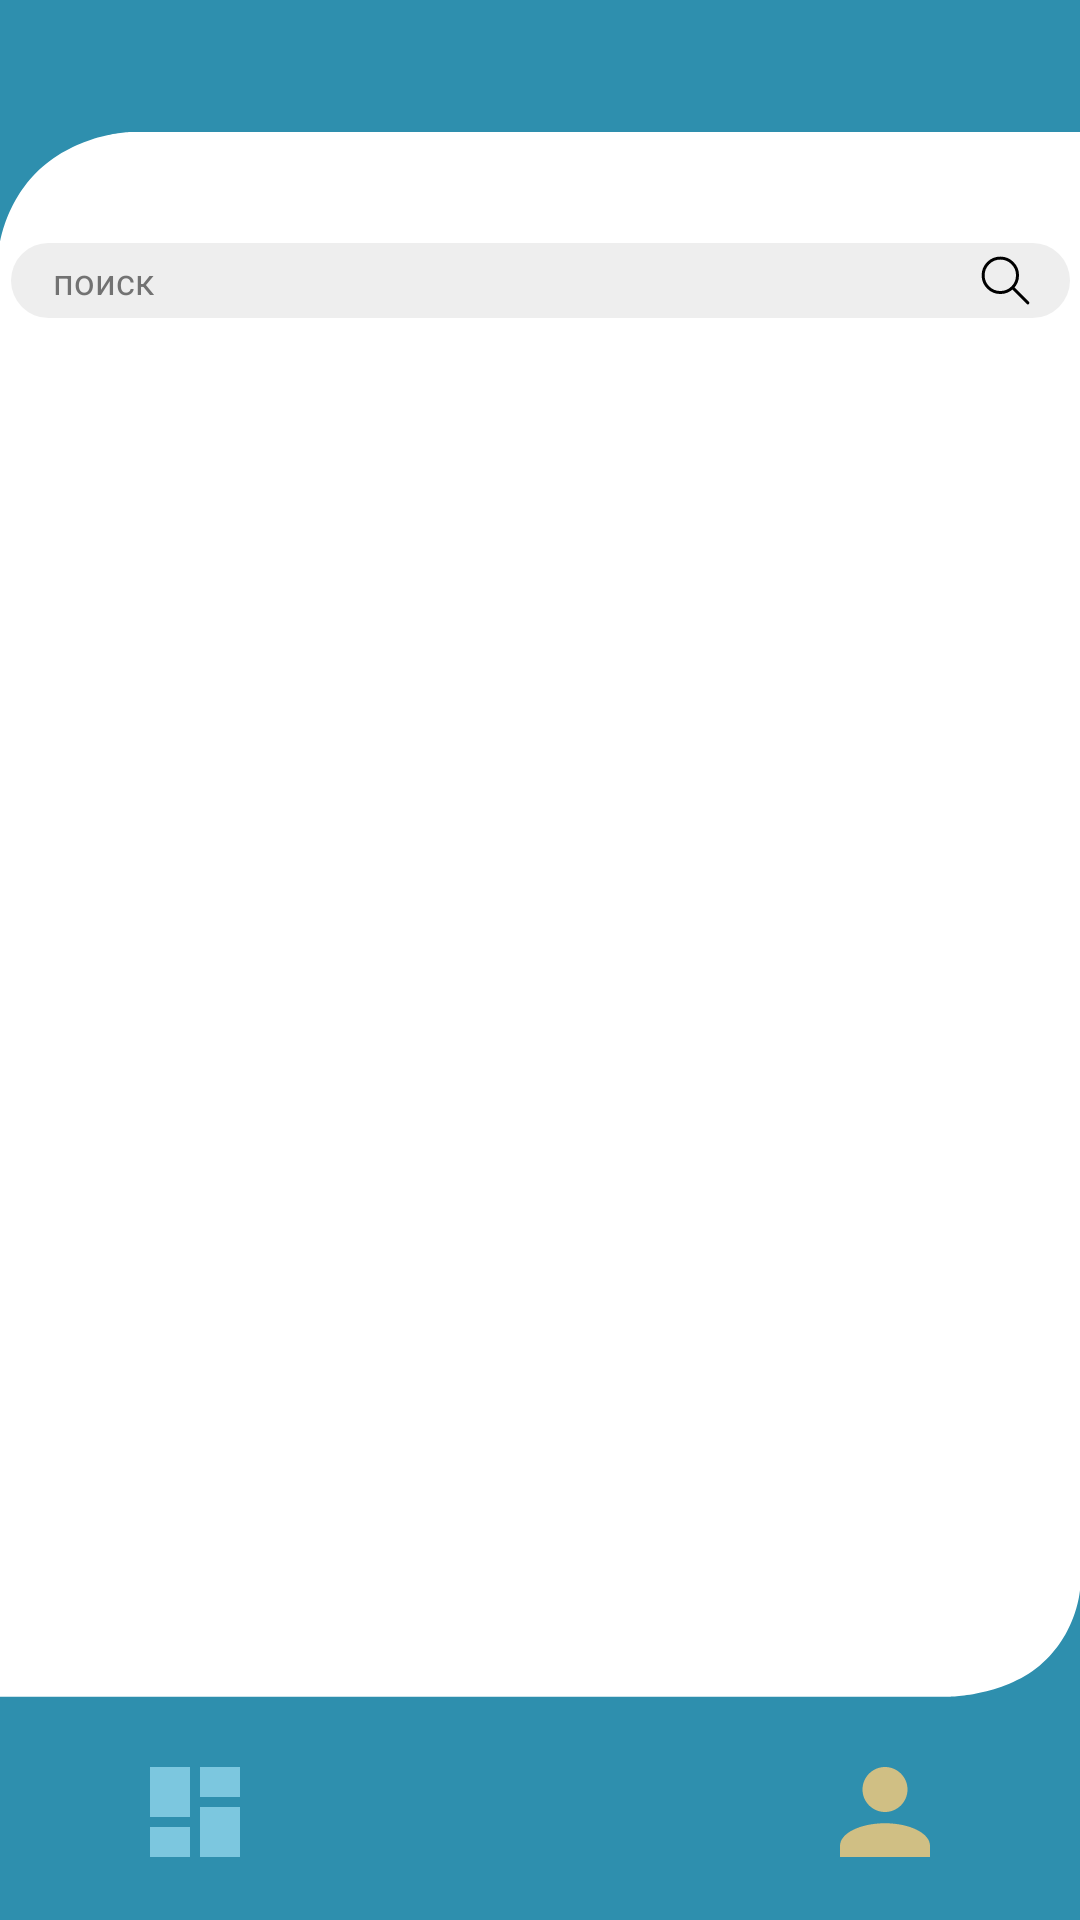

Named icons in this screenshot (1080×1920) and their bounding boxes, detection(x1, y1, x2, y2):
magnifier: detection(981, 256, 1030, 305)
profil: detection(840, 1767, 930, 1857)
projects feed: detection(150, 1767, 240, 1857)
